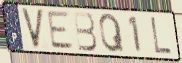1: (127, 16, 143, 54)
B: (72, 11, 99, 53)
E: (46, 10, 76, 50)
L: (149, 16, 174, 56)
Q: (98, 12, 126, 54)
V: (20, 7, 46, 51)
